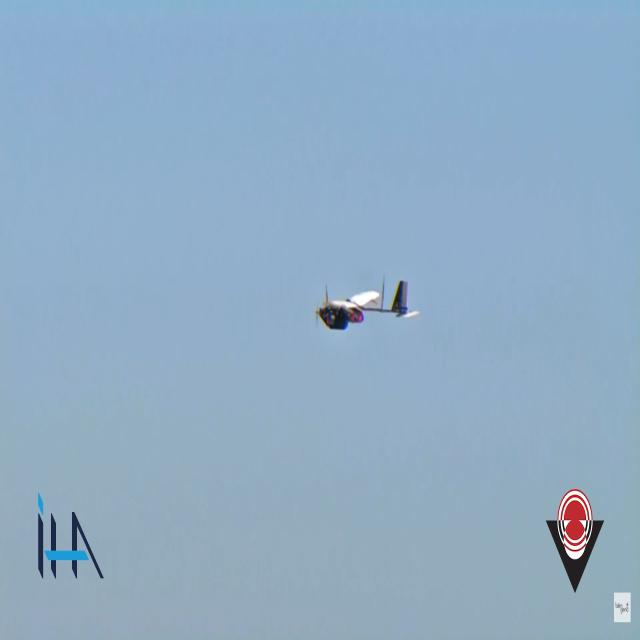iha: (346, 272, 388, 334)
